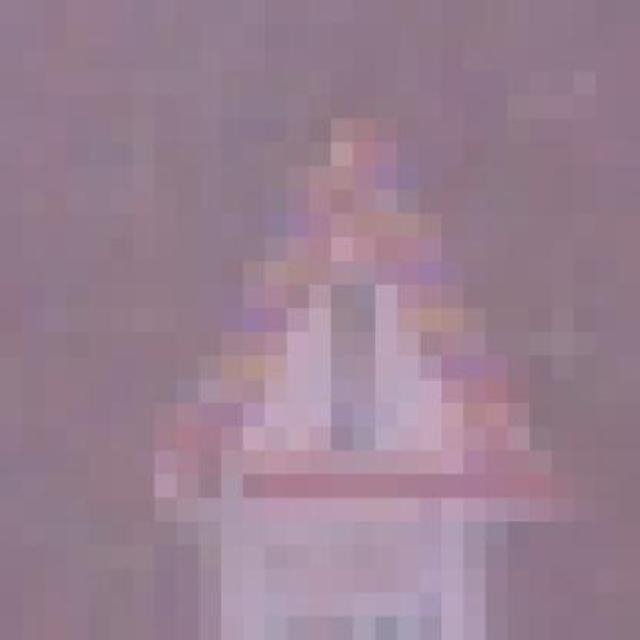Attention Please-: (88, 70, 574, 522)
